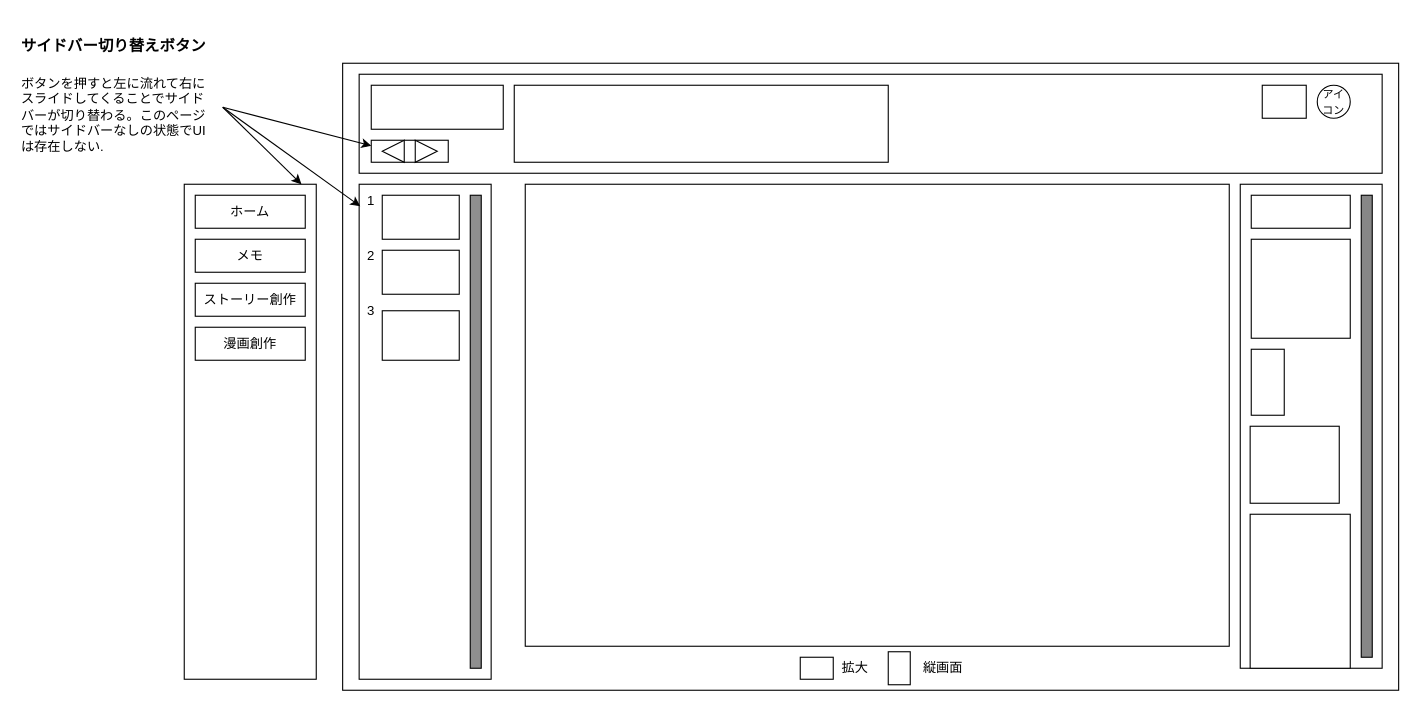
This 1418x710 diagram has some shape labels left out. Here are the shapes that lost their labels. From the top down, the centre of each, then its label:
At (436,106): "LOGO".
At (1283,101): "設定".
At (700,123): "タイトル・あらすじ・ジャンル".
